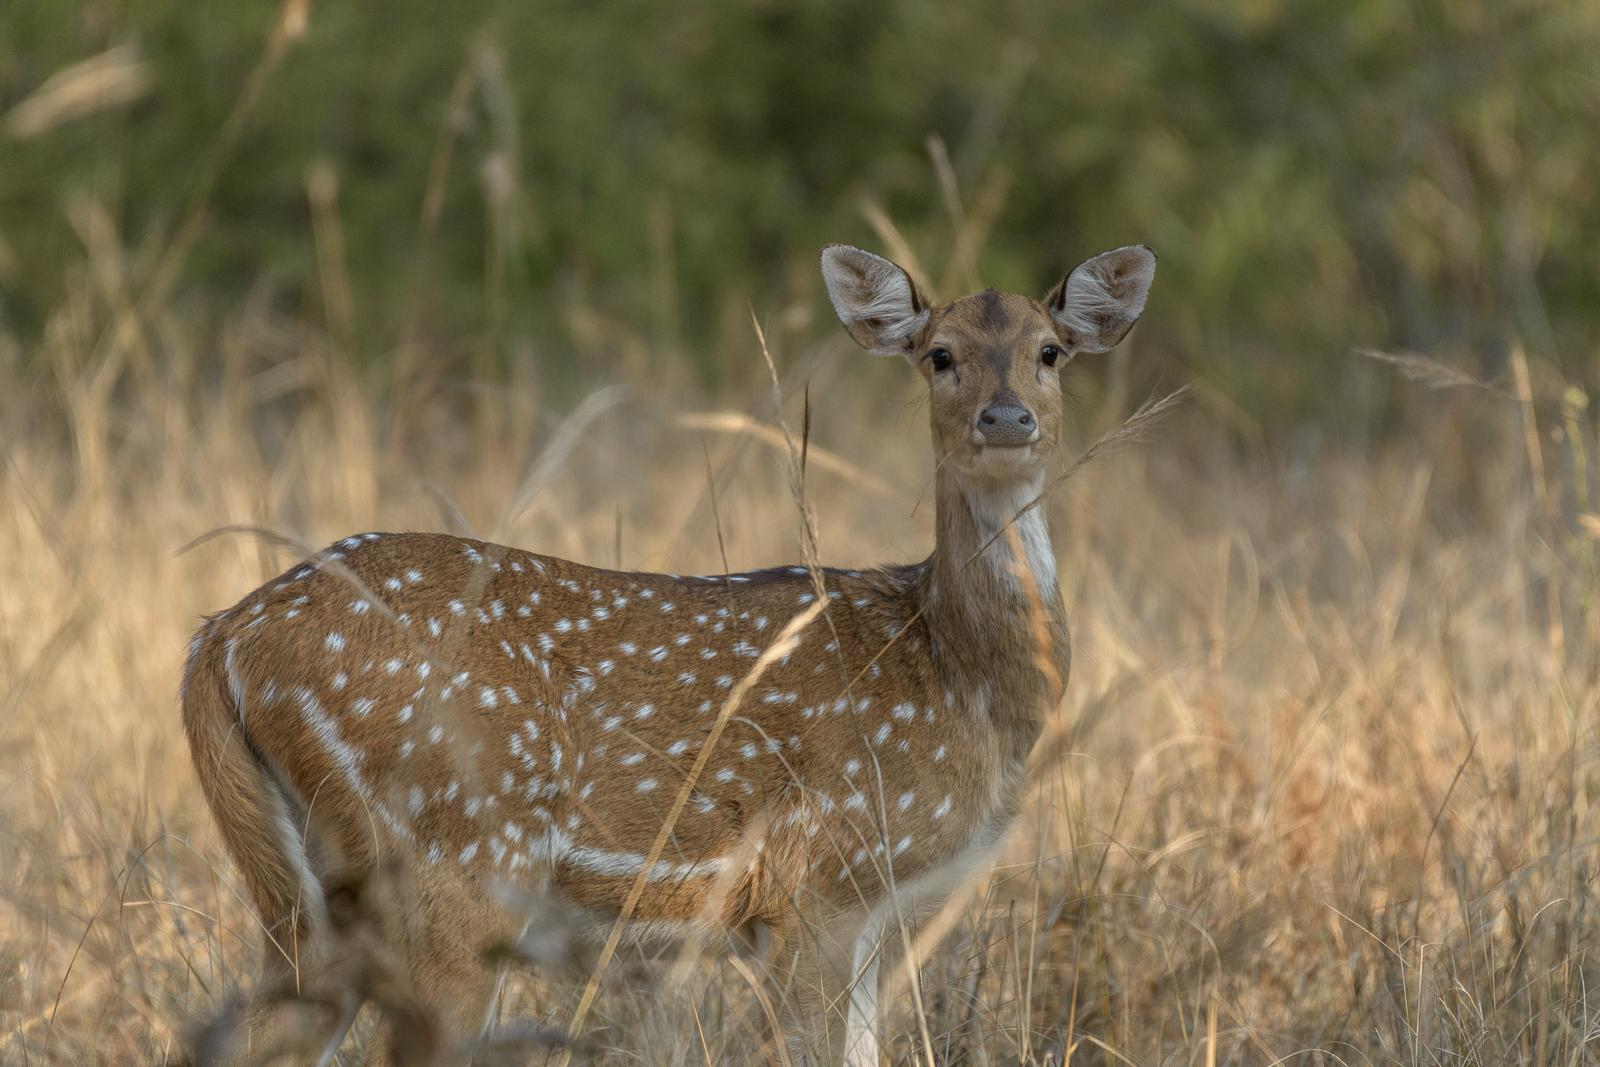Deer: (181, 245, 1155, 1063)
